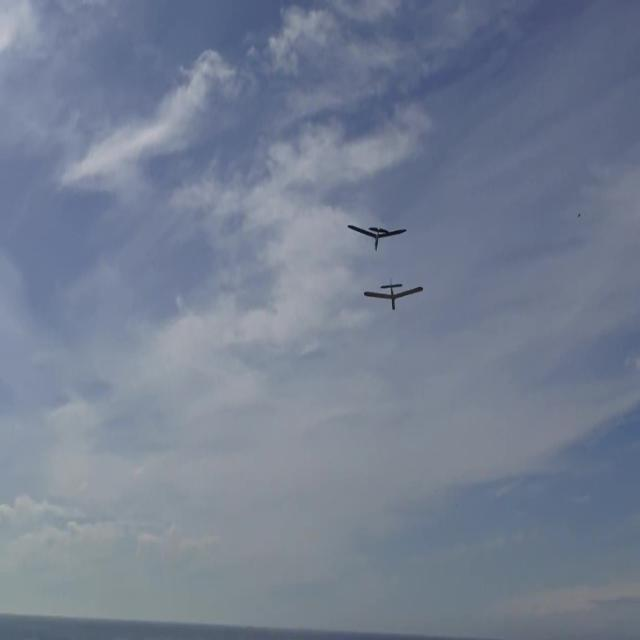iha: (356, 276, 417, 311), (347, 222, 407, 252)
